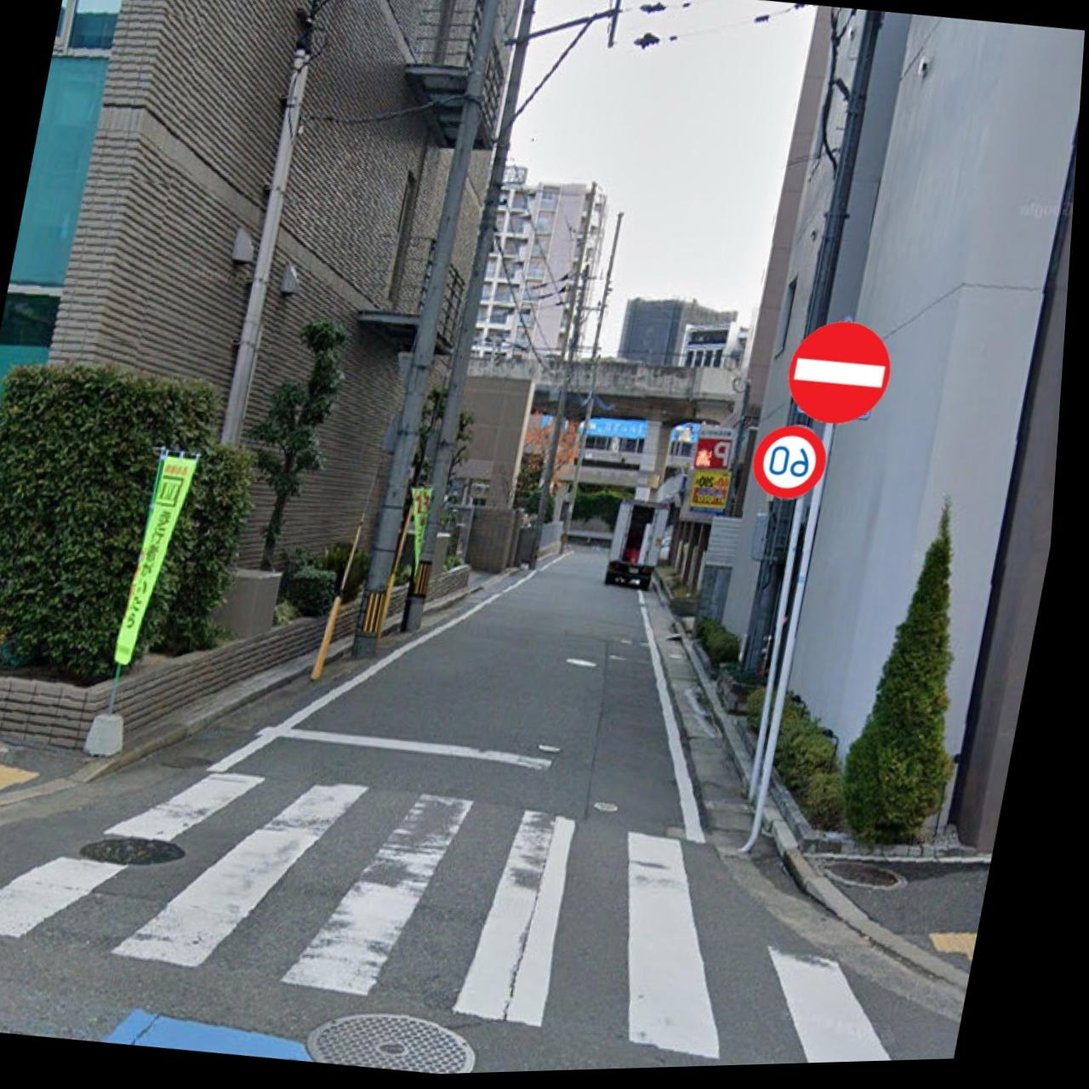barrier: (775, 309, 900, 430)
